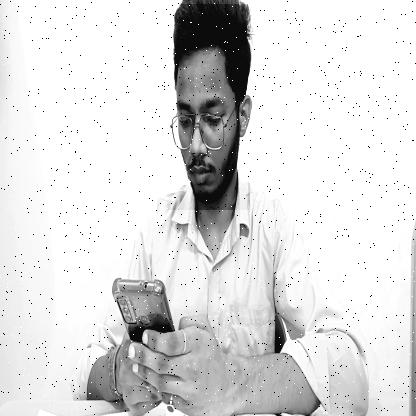Distracted: (167, 5, 250, 210)
